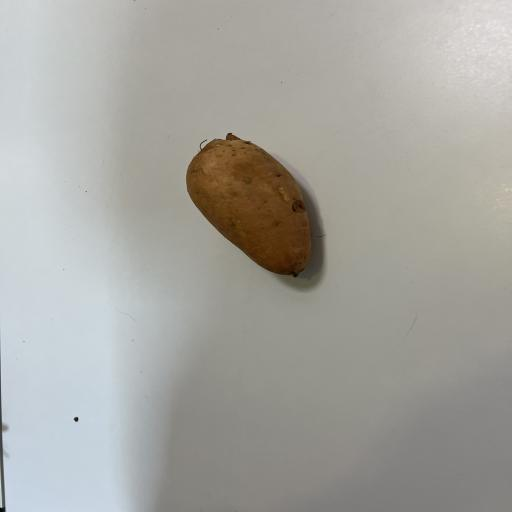sweet_potato: (164, 131, 349, 288)
